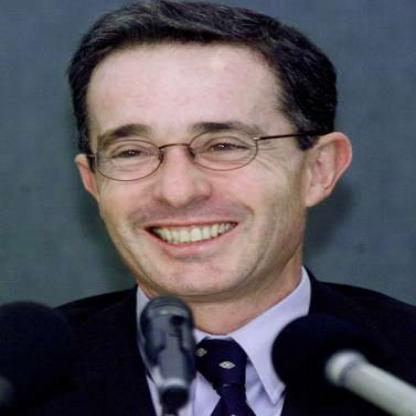face: (87, 7, 310, 301)
